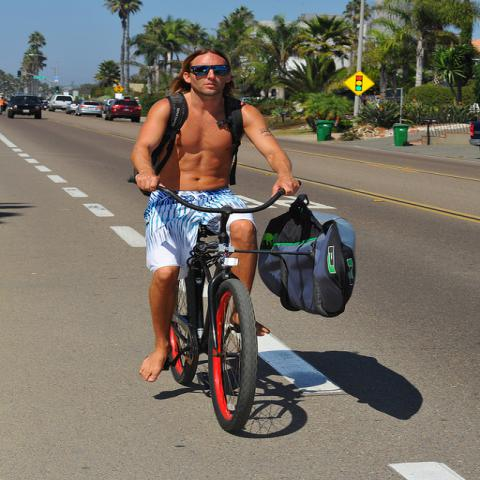car: (105, 98, 141, 123), (75, 100, 103, 118), (102, 99, 114, 114), (66, 104, 80, 114), (38, 97, 46, 104)
truck: (7, 95, 42, 119), (48, 94, 75, 111)
